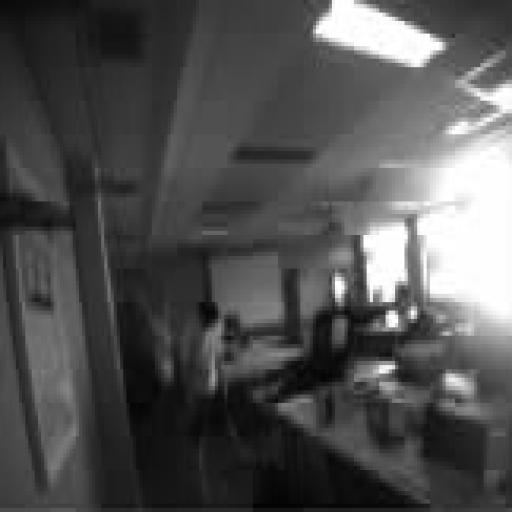human: (310, 267, 403, 383), (187, 303, 224, 440), (117, 298, 158, 419)
